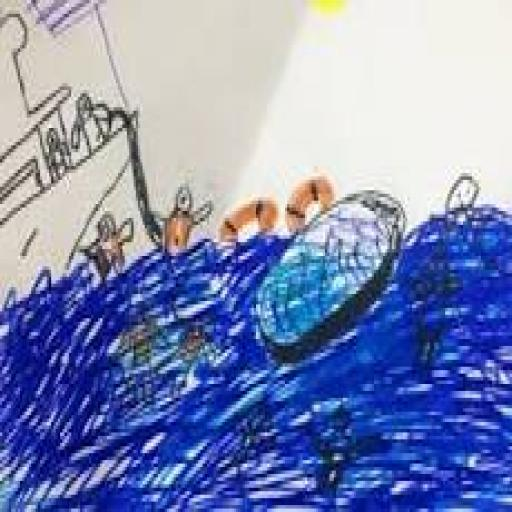person: (308, 392, 382, 512), (439, 169, 499, 295), (76, 200, 140, 293), (156, 178, 213, 266), (65, 89, 122, 168), (34, 118, 80, 198), (175, 311, 212, 386)
